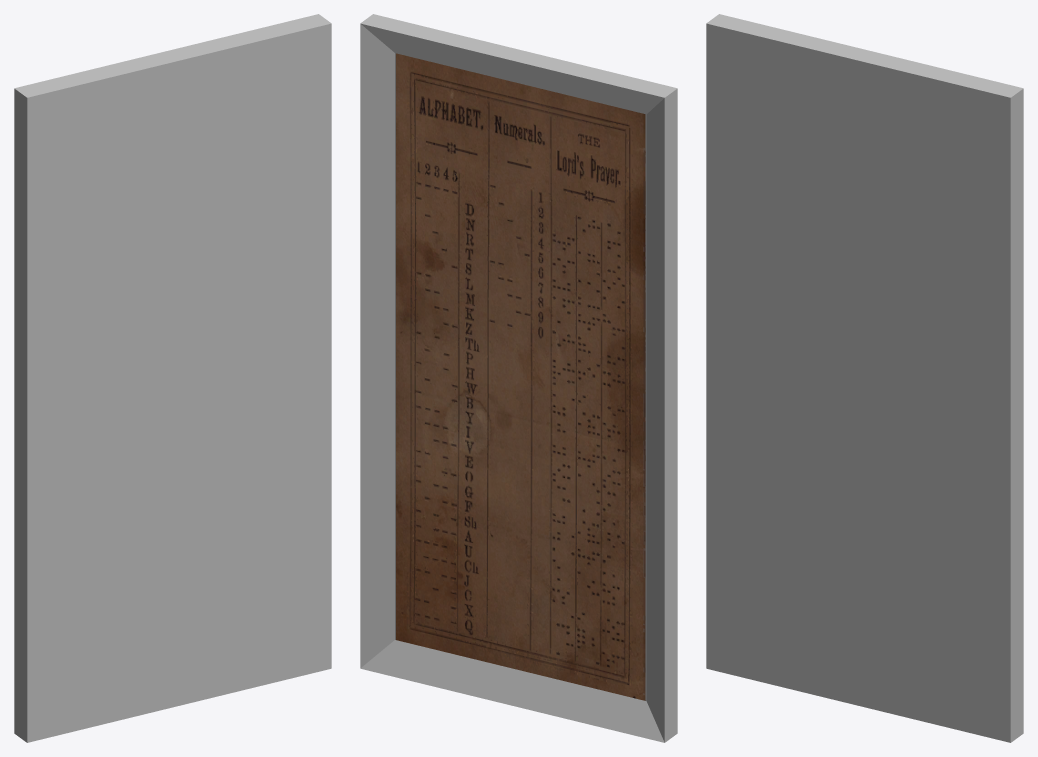
Rendered from picture01.DAE.
3 views of the same model, side by side, from view 1: azimuth 30°, elevation 25°; view 2: azimuth 150°, elevation 25°; view 3: azimuth 330°, elevation 25° (orthographic).
Visible parts, largest first — view 1: Box003; view 2: Object001, Box003; view 3: Box003.
Boxes of the visible parts, left/top/right/bottom form: Box003: left=14, top=14, right=331, bottom=742; Object001: left=396, top=53, right=645, bottom=700; Box003: left=360, top=14, right=677, bottom=742; Box003: left=706, top=14, right=1023, bottom=742.
Size of the model in its own units: 0.154 by 0.0114 by 0.3118.
